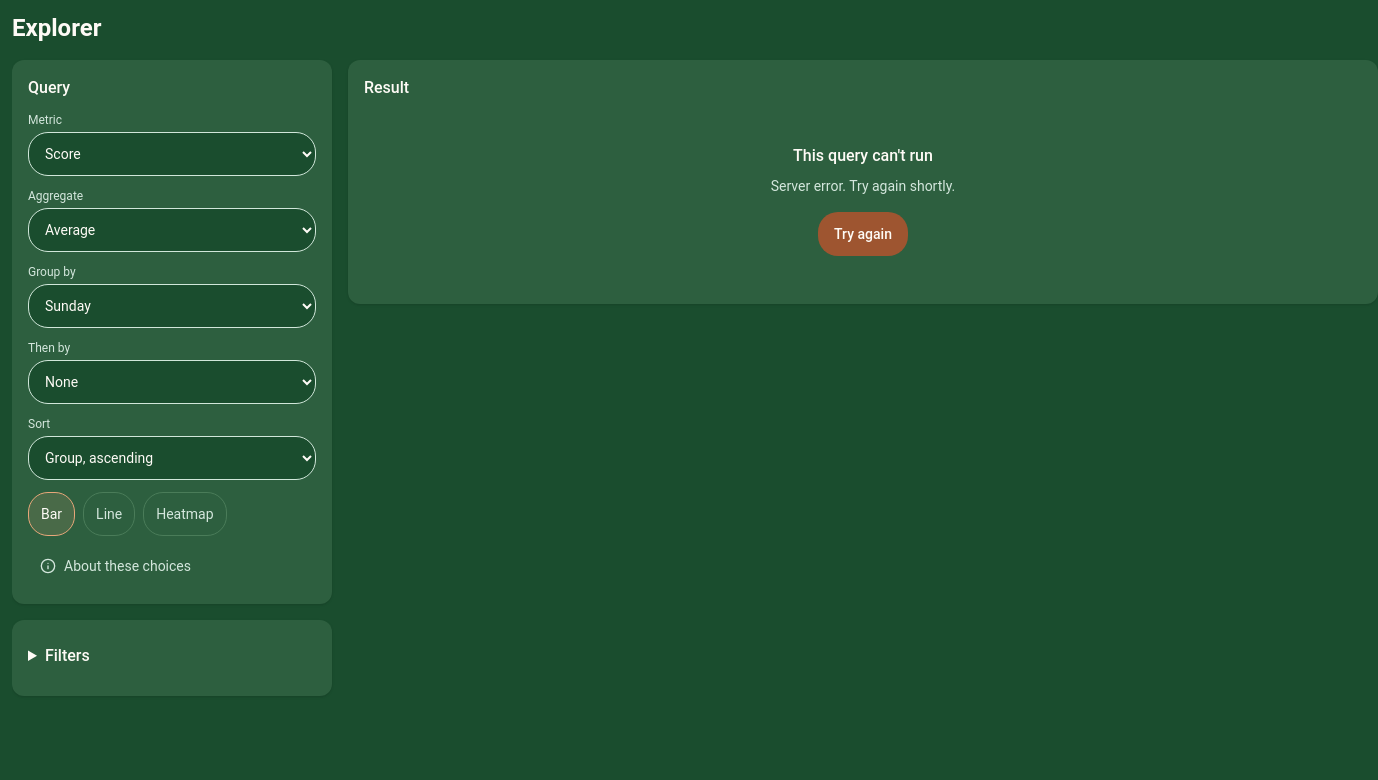
Test case: ExplorerPage › runs the query again after a failure
The image size is (1378, 780).
Expected: the text "Server error. Try again shortly." is shown, [771,176,955,196]
Click the button "Try again" at point(863, 234), box [818,212,908,256]
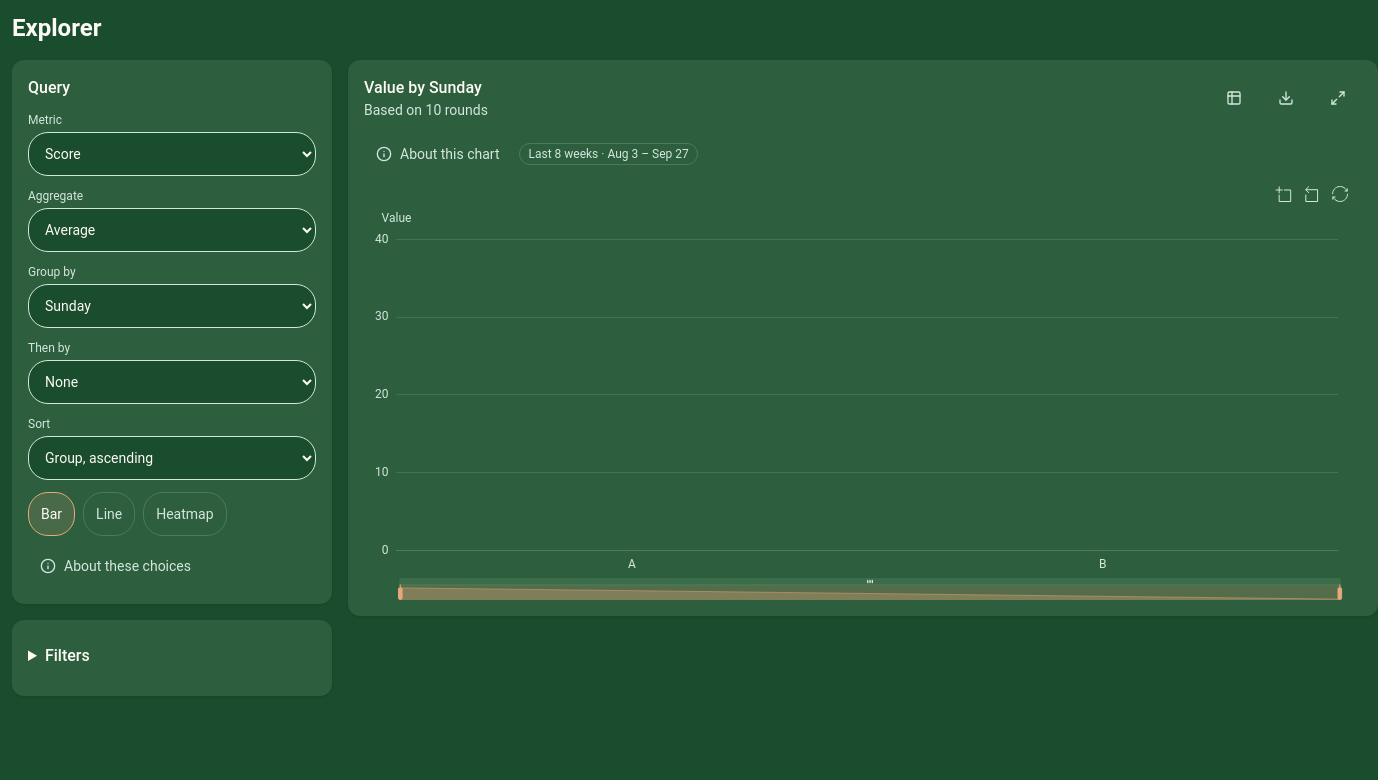
Result: the picture named "Value by Sunday" is shown at [364,180,1362,600]
